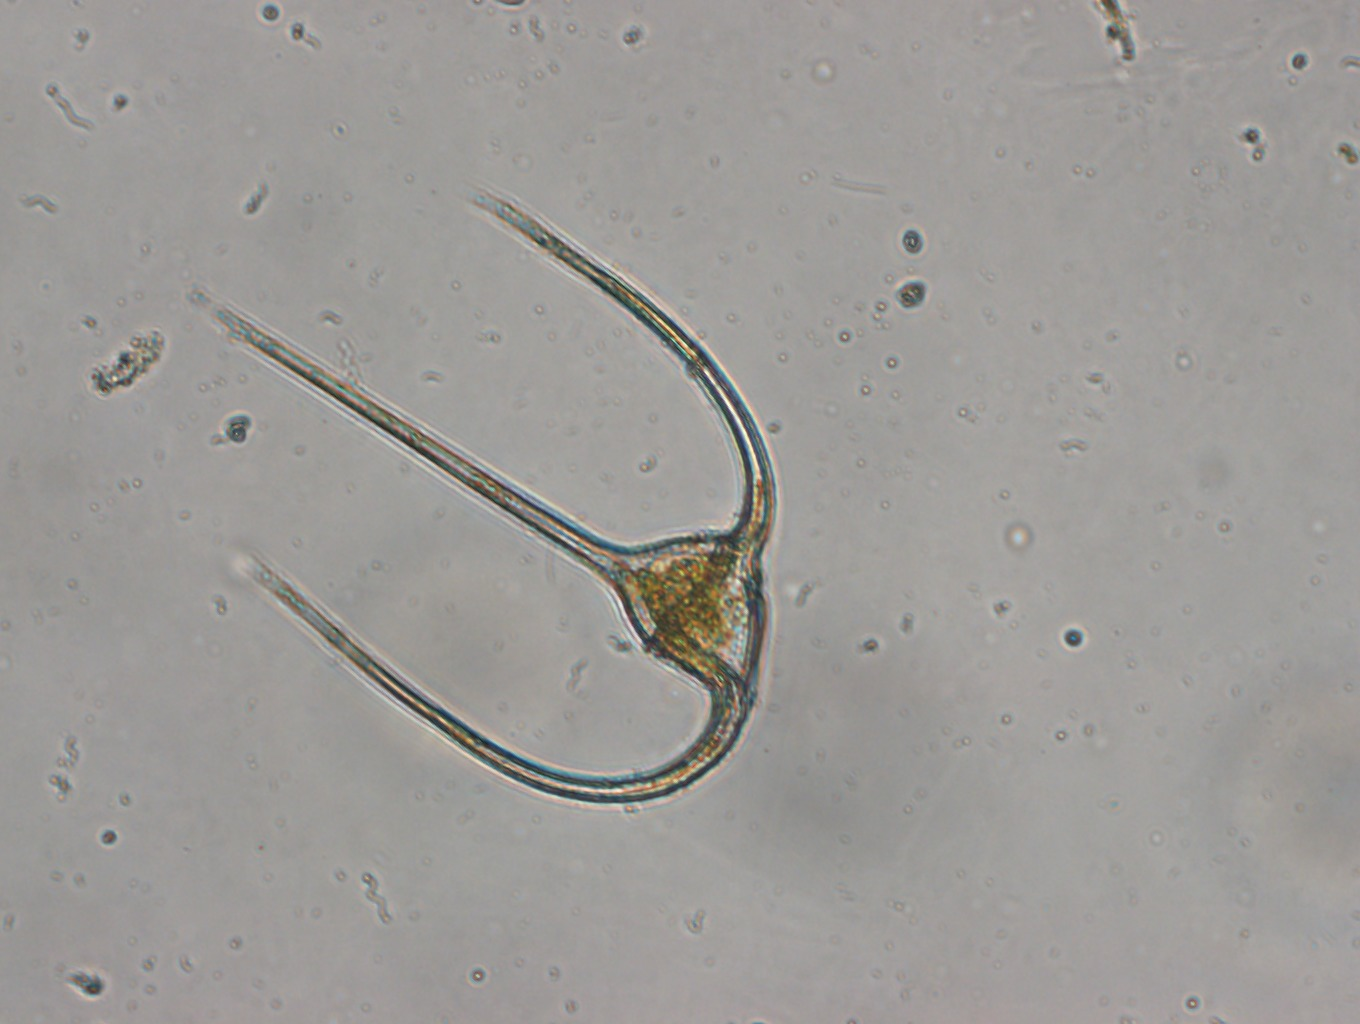ceratium trichoceros: (205, 165, 783, 813)
